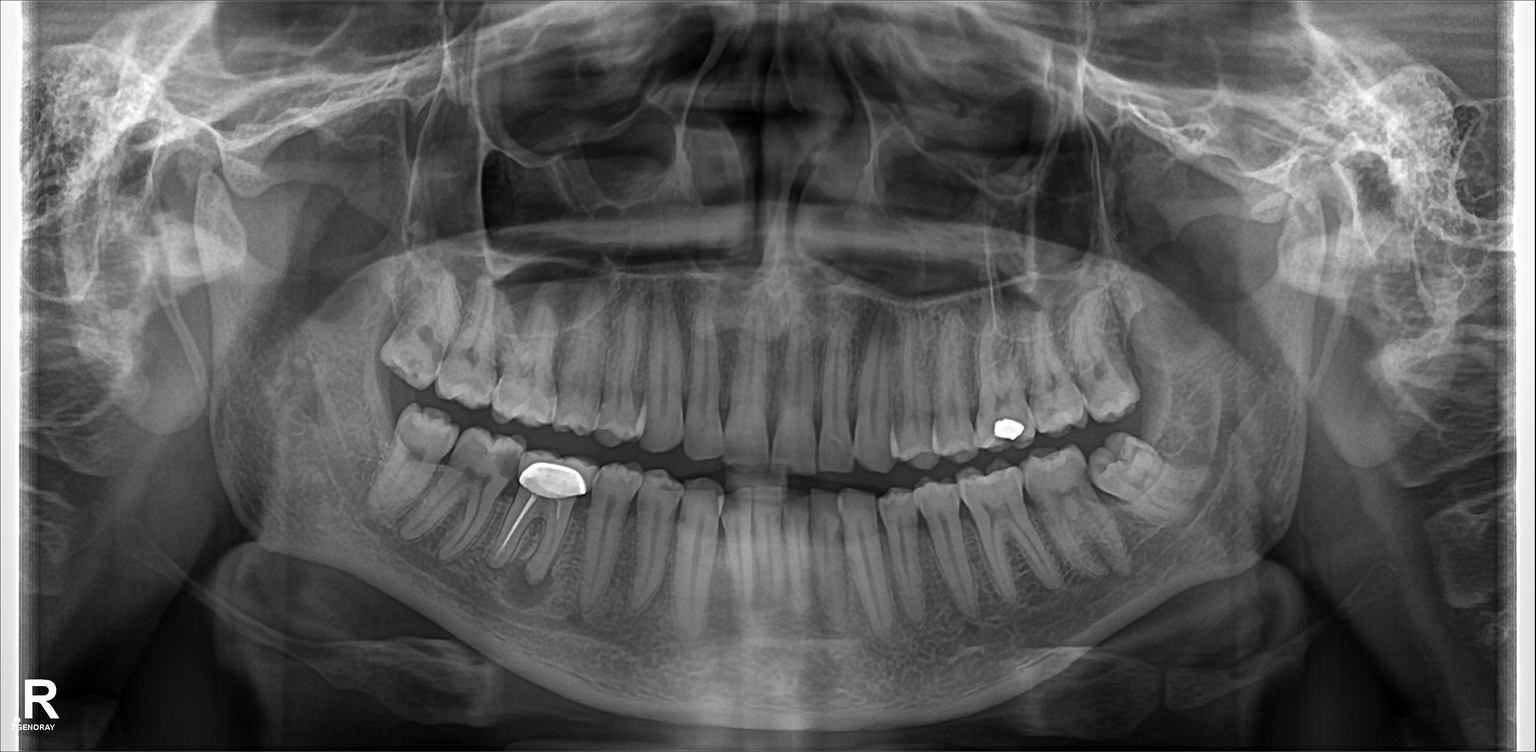Endodontically Treated Tooth: (518, 445, 583, 584)
Impacted Third Molar: (1091, 441, 1208, 517)
